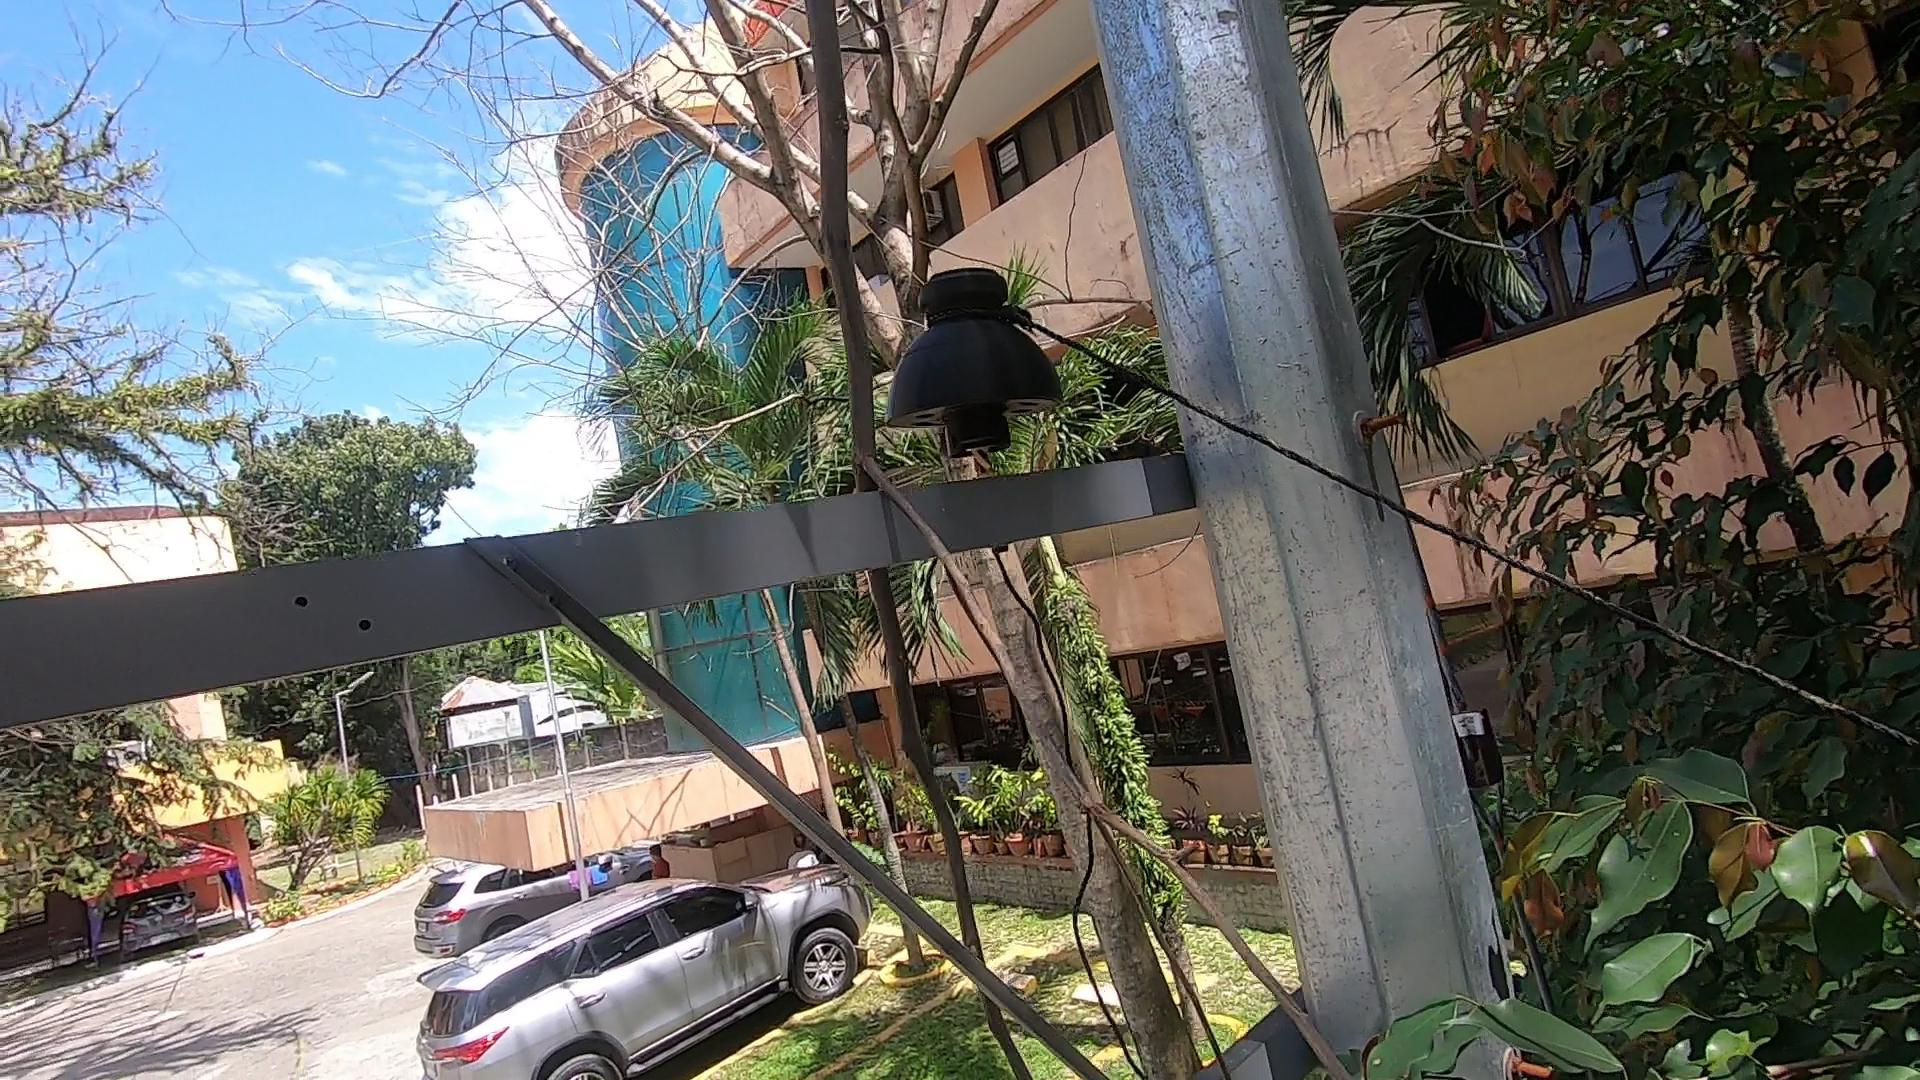tree branch: (738, 3, 1381, 1077)
